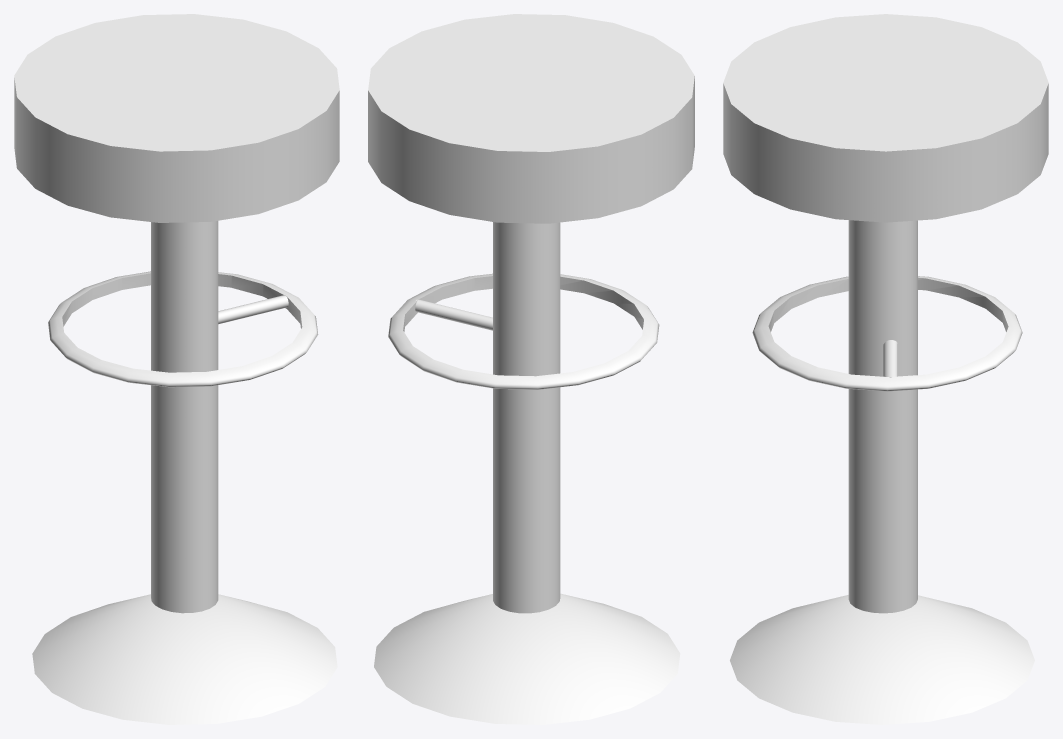
File: SillaAbajoRed.obj
3 renders of one model, left to right at view 1: azimuth 30°, elevation 25°; view 2: azimuth 150°, elevation 25°; view 3: azimuth 270°, elevation 25°, orthographic.
Parts seen in each view (by area): view 1: pCylinder4, pCone1, pCylinder1, polySurface1, pCylinder3; view 2: pCylinder4, pCone1, pCylinder1, polySurface1, pCylinder3; view 3: pCylinder4, pCone1, pCylinder1, polySurface1, pCylinder3.
Part boxes in pixels (x1=…): pCylinder4: x1=14, y1=14, x2=339, y2=222; pCone1: x1=32, y1=594, x2=337, y2=724; pCylinder1: x1=151, y1=221, x2=218, y2=613; polySurface1: x1=48, y1=271, x2=318, y2=387; pCylinder3: x1=218, y1=295, x2=288, y2=324; pCylinder4: x1=368, y1=14, x2=694, y2=223; pCone1: x1=374, y1=593, x2=680, y2=724; pCylinder1: x1=493, y1=222, x2=560, y2=613; polySurface1: x1=388, y1=273, x2=659, y2=389; pCylinder3: x1=415, y1=299, x2=492, y2=330; pCylinder4: x1=723, y1=14, x2=1048, y2=222; pCone1: x1=730, y1=595, x2=1034, y2=724; pCylinder1: x1=848, y1=220, x2=917, y2=613; polySurface1: x1=752, y1=276, x2=1022, y2=391; pCylinder3: x1=883, y1=340, x2=897, y2=377.
Size of the model in its own units: 1.2 by 2.33 by 1.2.
Materials: 1 (1 with a texture image).
